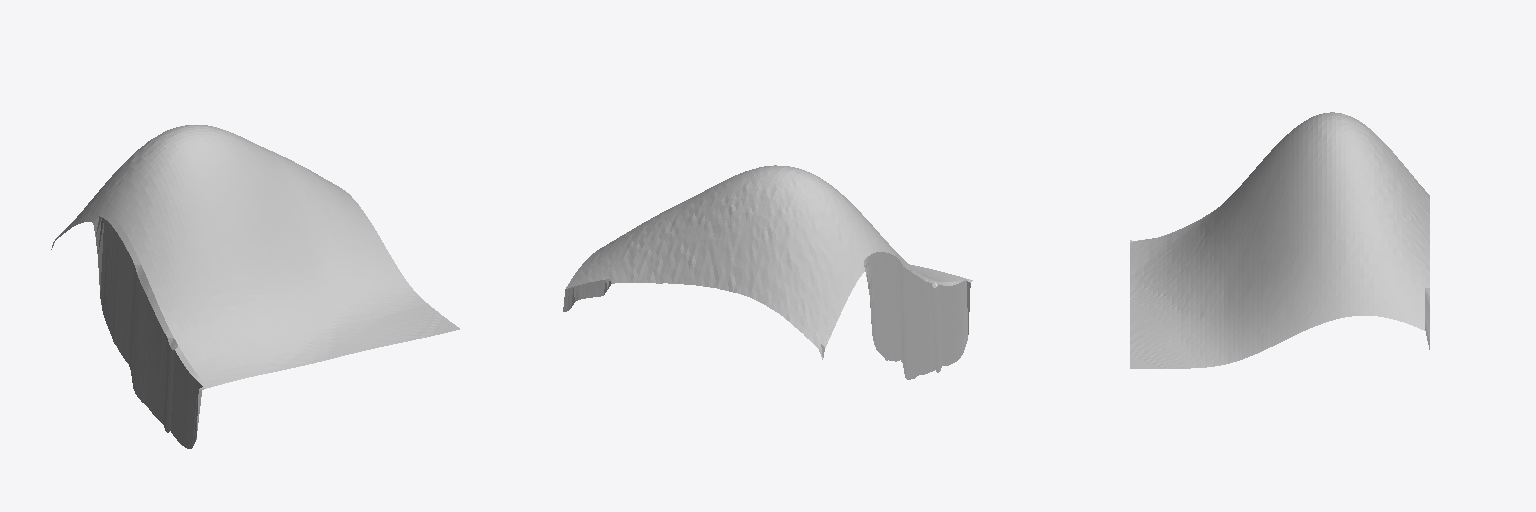
The model's file is SM_Terrain_Tuto2Chunk2.0.obj.
3 renders of one model, left to right at view 1: azimuth 30°, elevation 25°; view 2: azimuth 150°, elevation 25°; view 3: azimuth 270°, elevation 25°, orthographic.
Bounding box in the file's own units: 100 × 85.86 × 100.